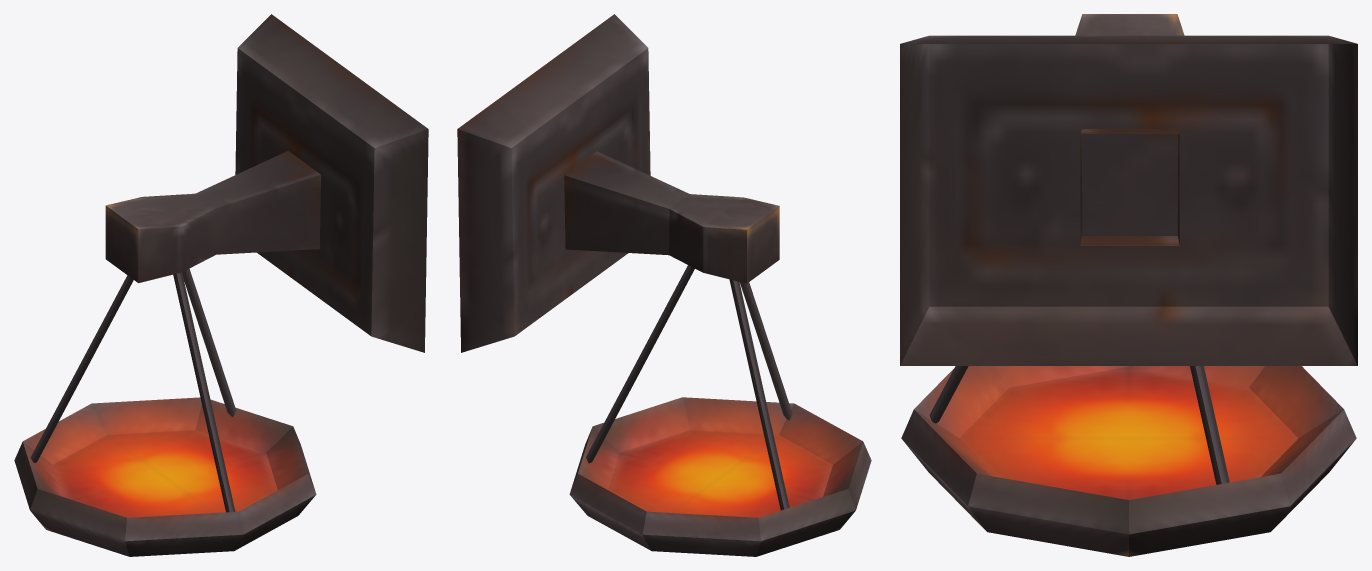
File: ludeng.FBX
3 renders of one model, left to right at view 1: azimuth 30°, elevation 25°; view 2: azimuth 150°, elevation 25°; view 3: azimuth 270°, elevation 25°, orthographic. The views are drawn at different scales.
Visible parts, largest first — view 1: ludeng; view 2: ludeng; view 3: ludeng.
Part boxes in pixels (left/top/right/bottom): ludeng: left=14, top=14, right=428, bottom=556; ludeng: left=457, top=14, right=871, bottom=556; ludeng: left=900, top=14, right=1357, bottom=556.
Bounding box in the file's own units: 133 × 153 × 113.
